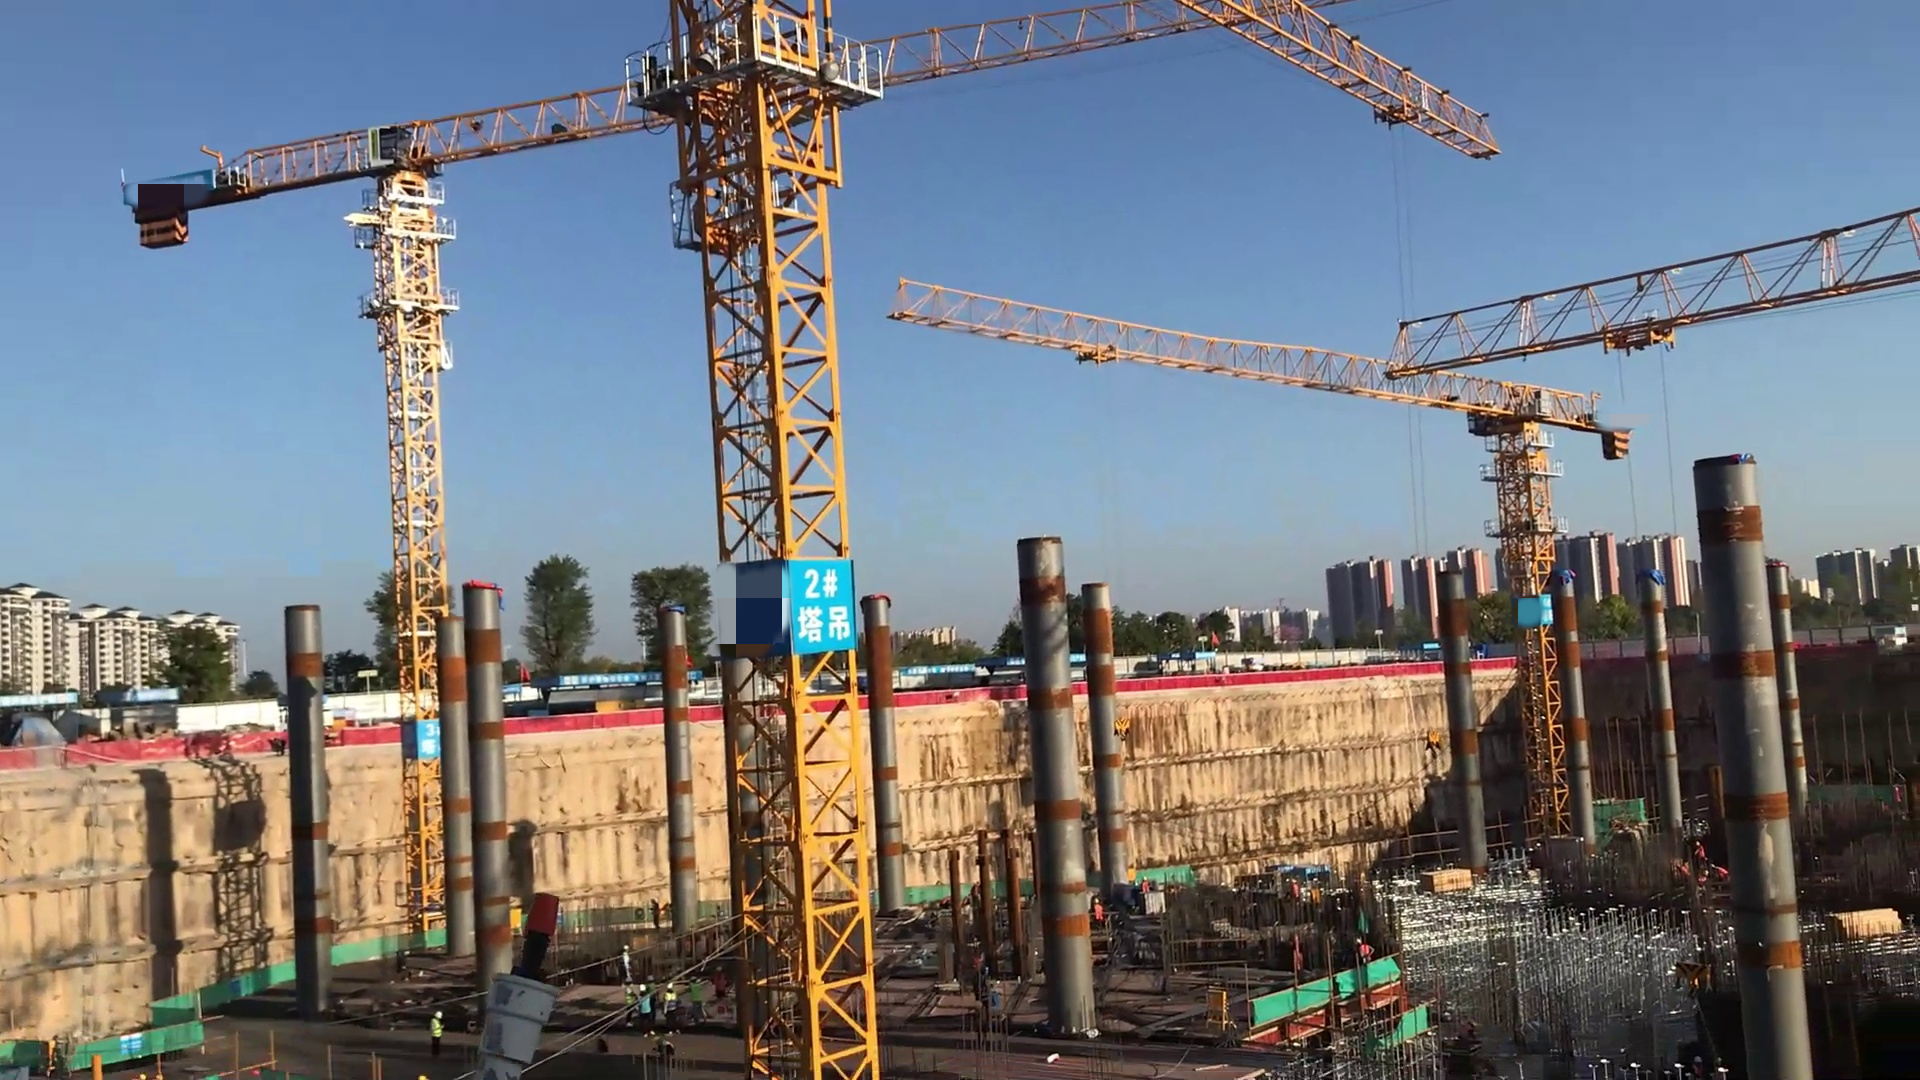helmet: (666, 981, 679, 994), (640, 983, 650, 995), (434, 1009, 443, 1022), (1092, 897, 1101, 905), (1142, 876, 1149, 882), (1695, 840, 1701, 847)
person: (712, 965, 737, 1020), (687, 974, 709, 1034), (639, 984, 658, 1037), (663, 979, 681, 1030), (430, 1007, 447, 1059), (1354, 937, 1377, 970), (620, 944, 636, 986), (648, 896, 663, 936), (1692, 839, 1709, 872), (626, 983, 638, 1030), (968, 880, 984, 912), (1710, 862, 1732, 886), (1092, 896, 1107, 930), (1140, 873, 1152, 899), (1290, 879, 1300, 909), (1697, 871, 1709, 891)
vest: (689, 982, 704, 1007), (664, 992, 680, 1016), (640, 995, 654, 1019), (1358, 944, 1372, 962), (432, 1019, 443, 1039), (1094, 904, 1104, 922)
